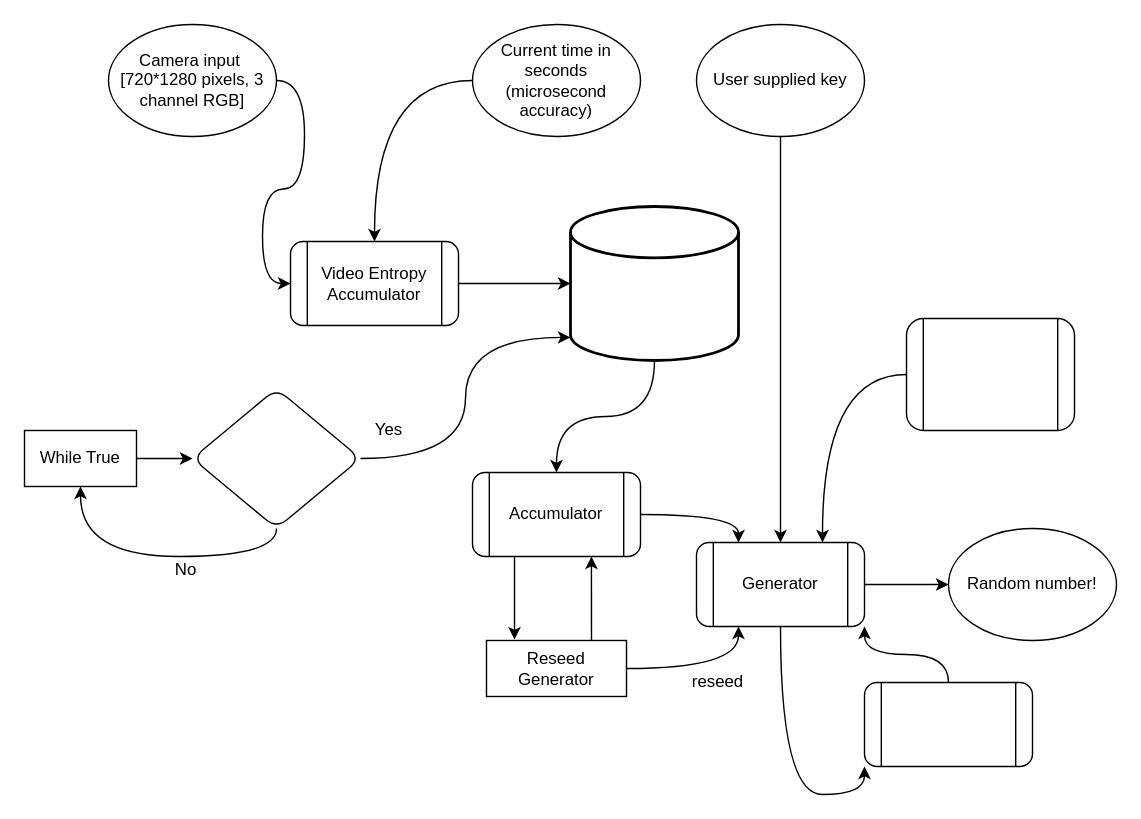
The diagram is 1141 pixels wide and 819 high, and some of its shapes have lost their labels. Each missing label, with the centre of its shape:
"32 Entropy pools" belongs at point 653,282.
"Entrypy pool 0 is filled?" belongs at point 275,457.
"Generate random digit using seed and return its aes encryption" belongs at point 989,373.
"update key using same rng" belongs at point 947,723.
